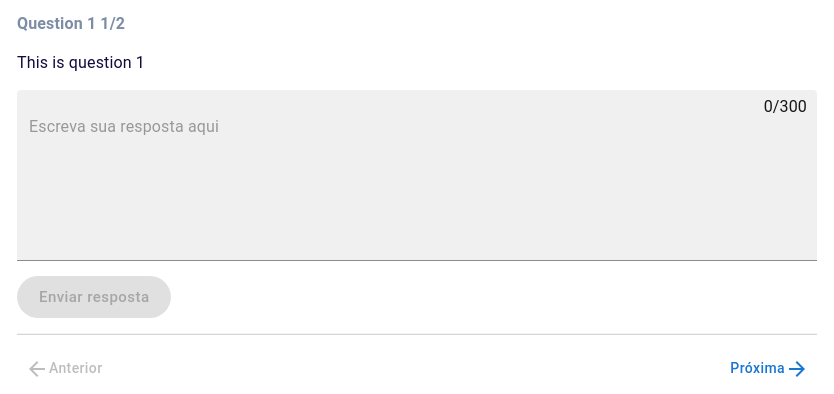
Test: QuestionsForm › deve habilitar o botão "Enviar Resposta" quando uma resposta for digitada
This screenshot has width=834, height=394.
Step 1. Type "Nova resposta" into the text box with placeholder "Escreva sua resposta aqui" → (417, 184), box [29,115,805,253]
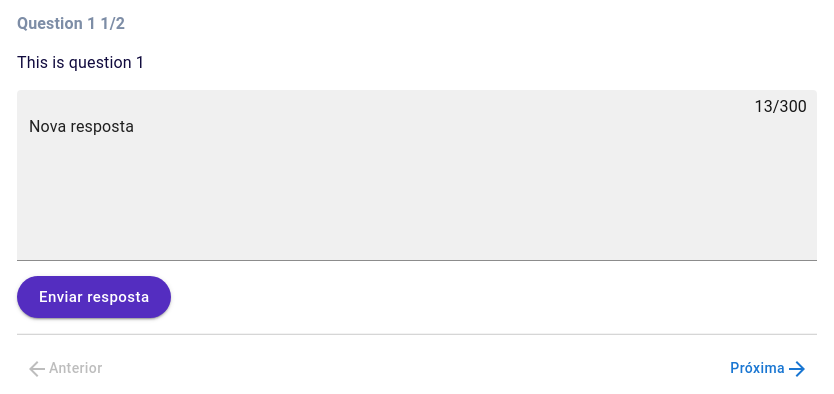
Expected: the button "Enviar resposta" is enabled, [17,276,171,318]
